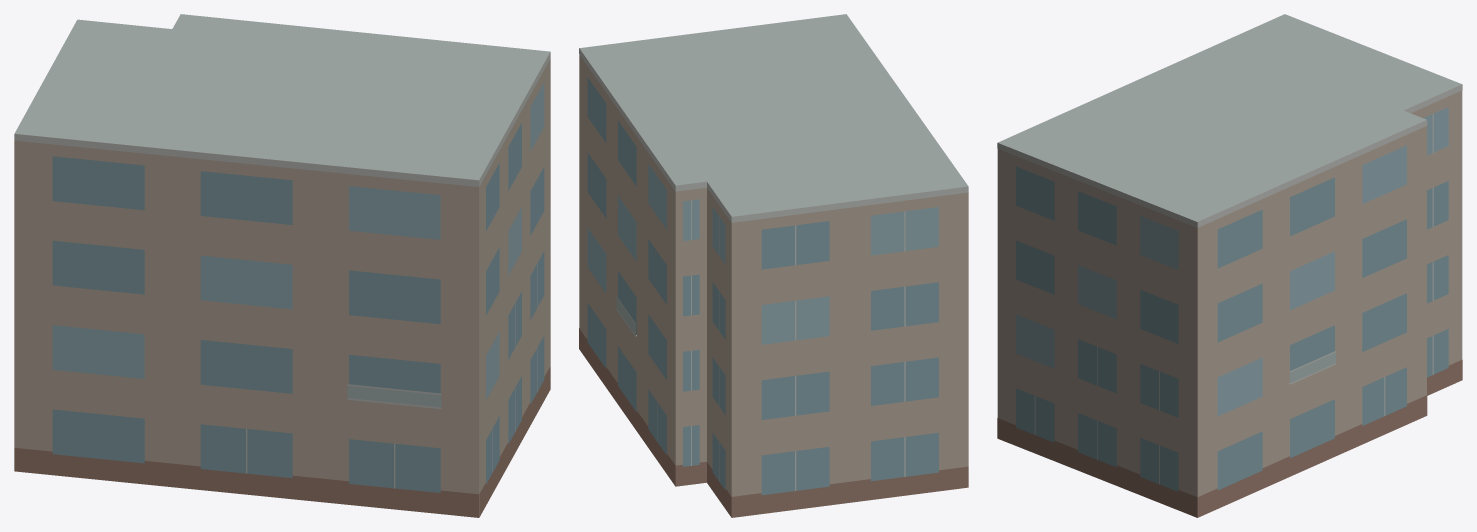
Rendered from survey-upis-32642234.glb.
The picture shows the model from 3 angles, left to right: view 1: azimuth 30°, elevation 25°; view 2: azimuth 150°, elevation 25°; view 3: azimuth 270°, elevation 25°; orthographic projection. The views are drawn at different scales.
Visible parts, largest first — view 1: survey-upis-32642234.tmp; view 2: survey-upis-32642234.tmp; view 3: survey-upis-32642234.tmp.
Part boxes in pixels (x1,y1,x2,y2): survey-upis-32642234.tmp: (14, 14, 550, 517); survey-upis-32642234.tmp: (579, 14, 968, 517); survey-upis-32642234.tmp: (997, 14, 1462, 517).
Bounding box in the file's own units: 18.48 × 12.25 × 17.46.
